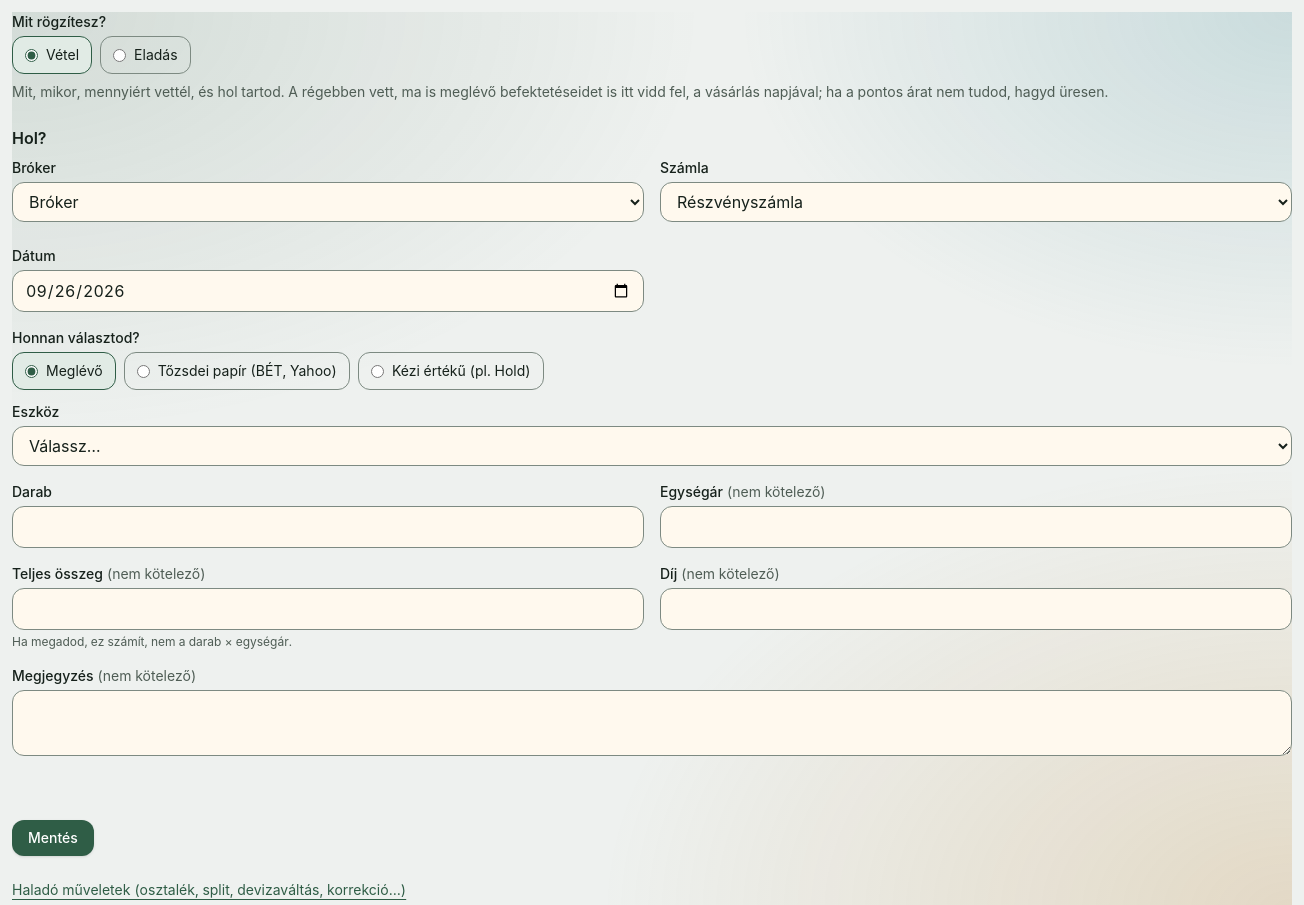
Scenario: EntryForm – Vétel and Eladás (4c plan §2, without the Mai állomány tab since 2026-09-27) › Eladás: only what the account holds, no new broker or account, the holding as a hint, the price needed
Step 1. Click the radio button labelled "Eladás" → (120, 55), box [113,48,126,62]
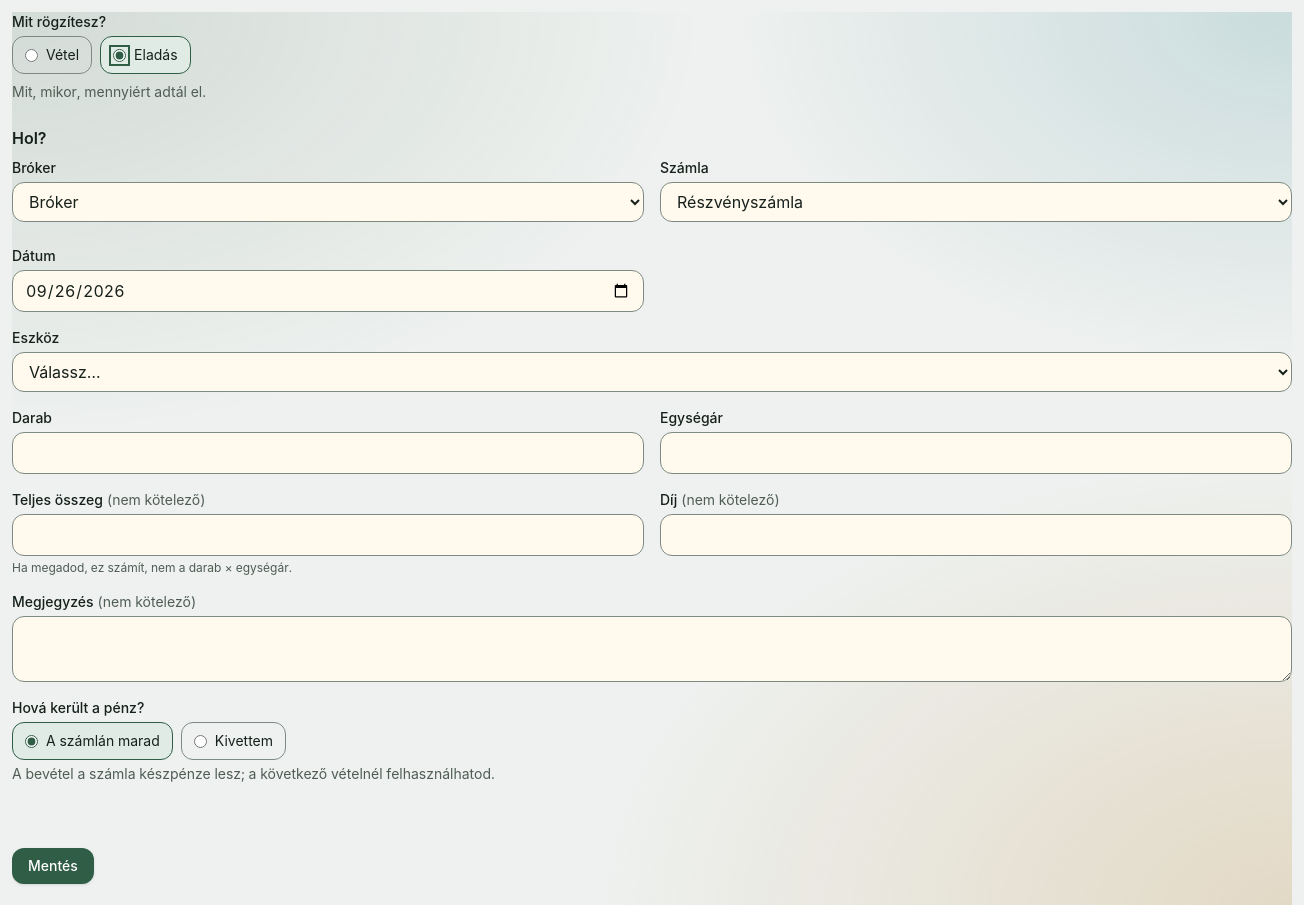
Step 2. Select "Példa (PLDA) · EUR" in the dropdown labelled "Eszköz" → (652, 372), box [12,352,1292,392]
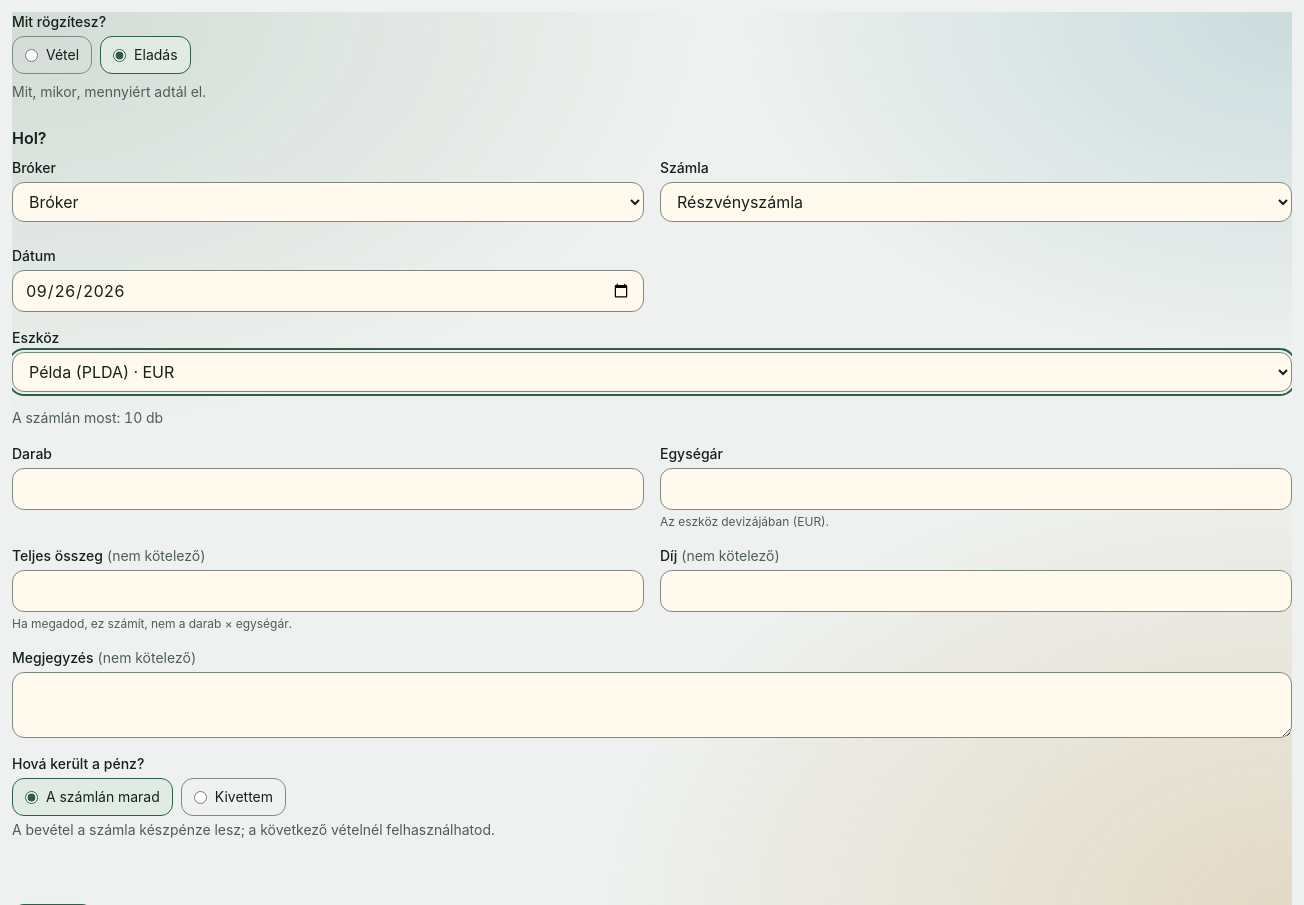
Expected: the field labelled "Egységár" is shown, [660,468,1292,510]
Expected: the text "A számlán most: 10 db" is shown, [12,409,163,426]
Step 3. Select "Részvényszámla" in the dropdown labelled "Számla" → (976, 202), box [660,182,1292,222]
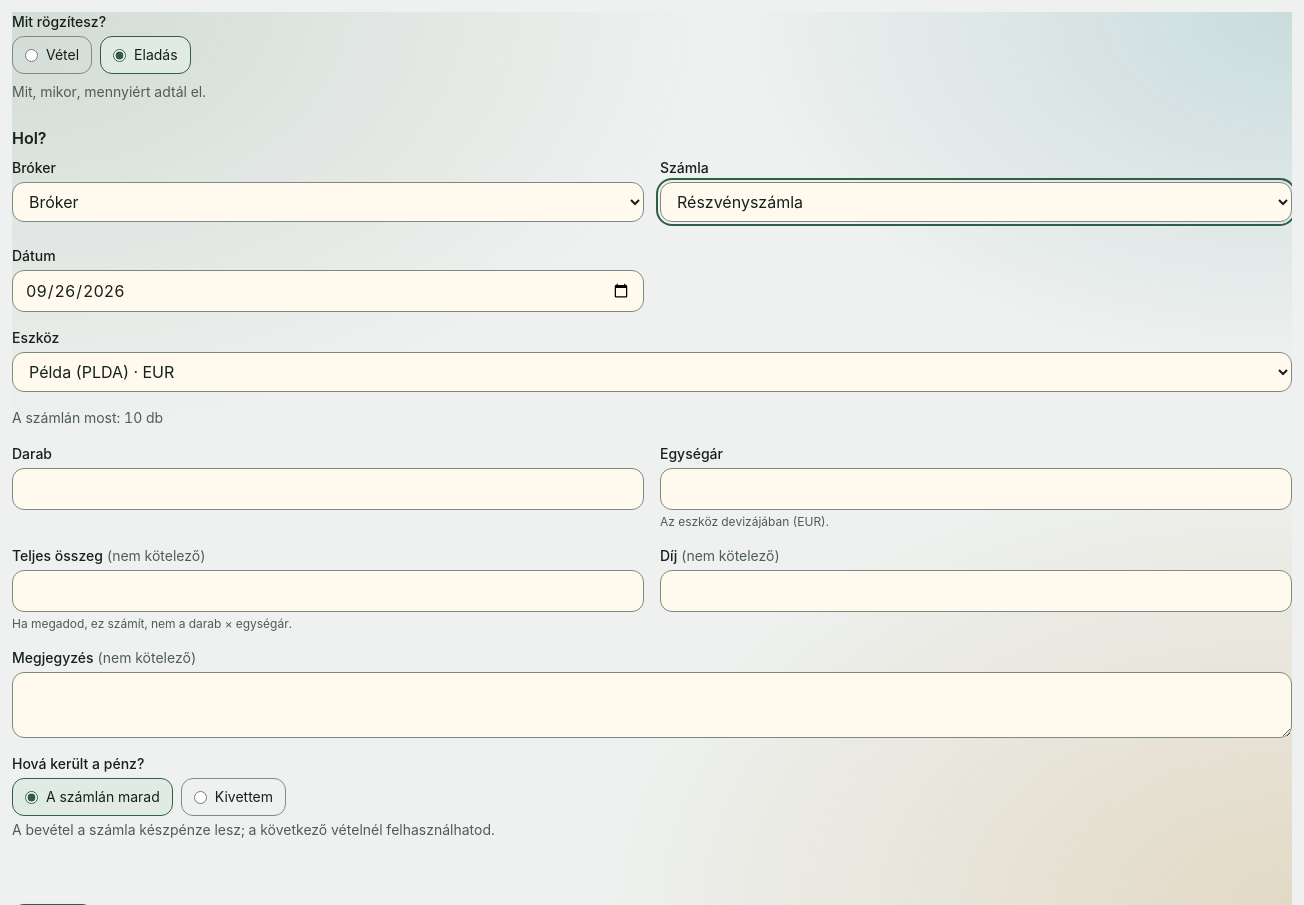
Step 4. Select "Bank" in the dropdown labelled "Bróker" → (328, 202), box [12,182,644,222]
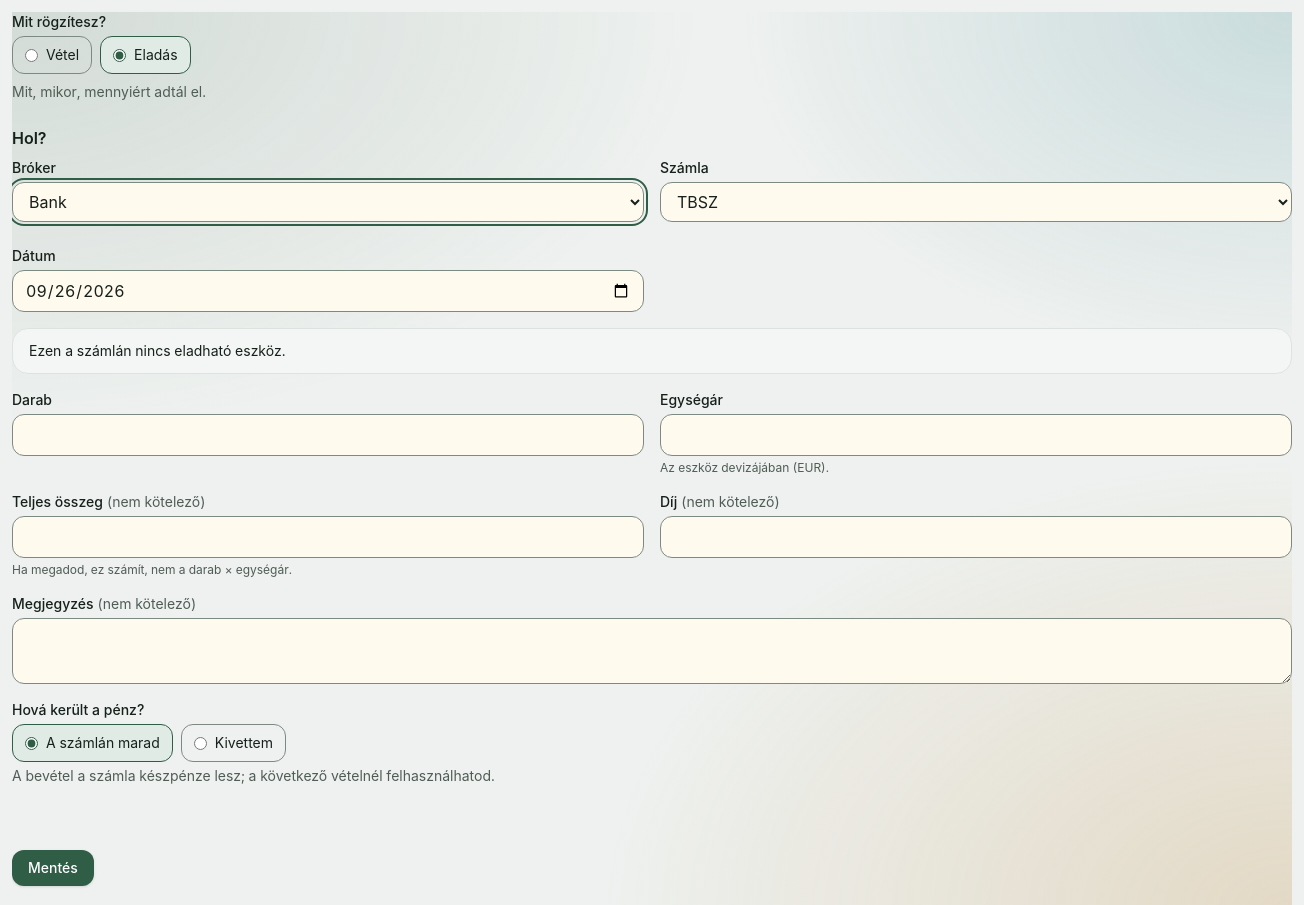
Expected: the text "Ezen a számlán nincs eladható eszköz." is shown, [12,328,1292,374]
